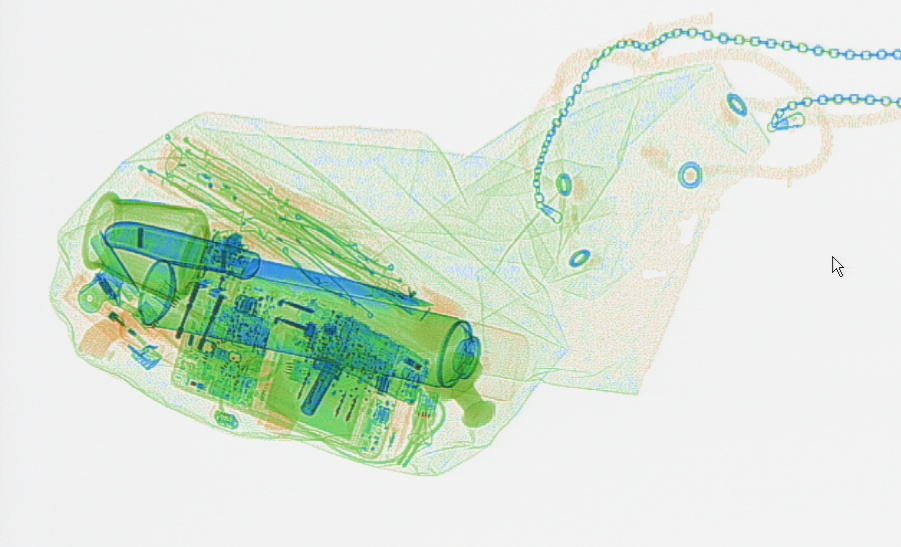knife: (100, 219, 435, 308)
lighter: (62, 272, 164, 371)
pressure: (137, 257, 531, 403)
